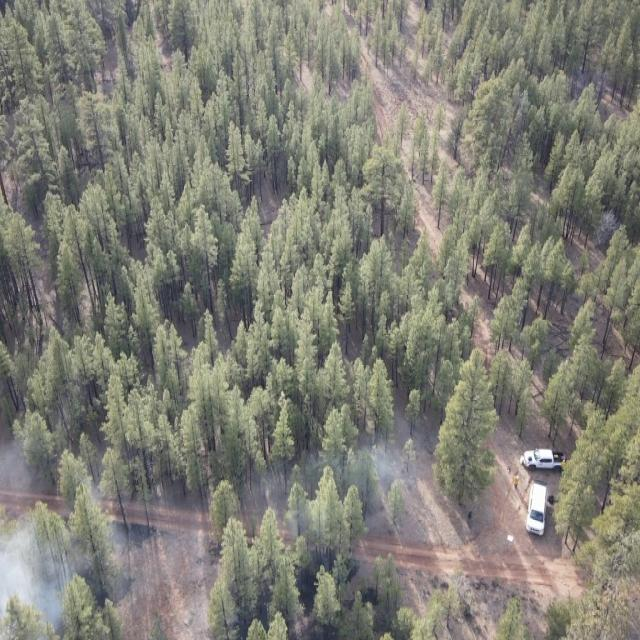smoke: (0, 434, 108, 640), (250, 416, 440, 528)
